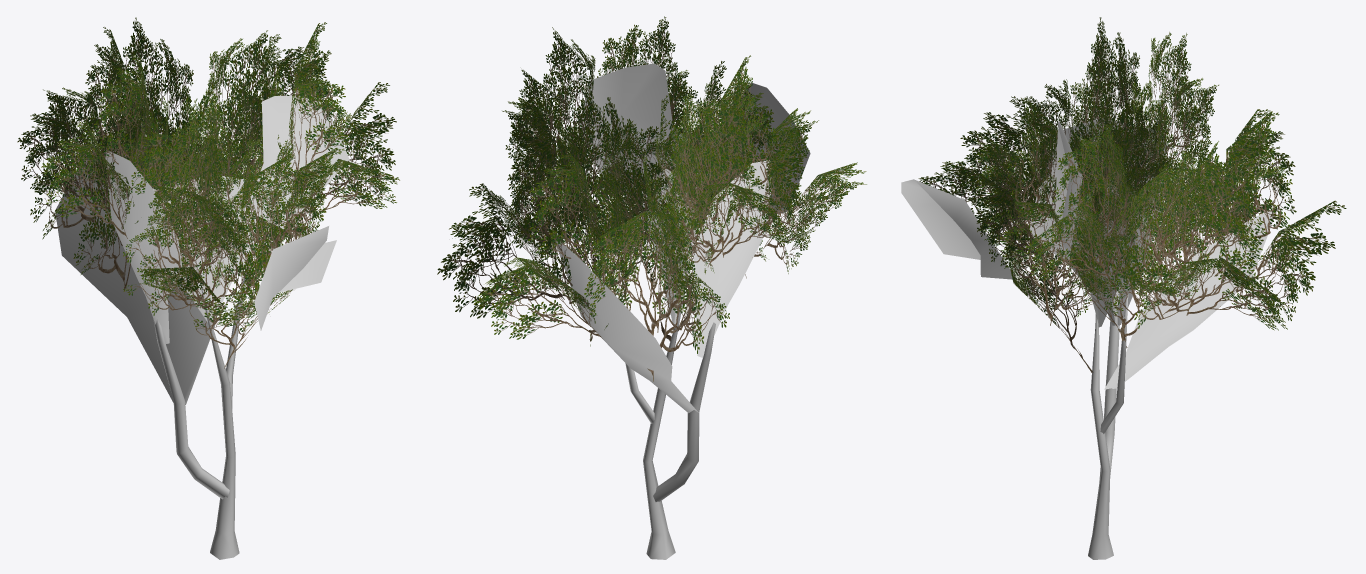
File: SM_Tree_Small_01a.fbx
3 views of the same model, side by side, from view 1: azimuth 30°, elevation 25°; view 2: azimuth 150°, elevation 25°; view 3: azimuth 270°, elevation 25° (orthographic). The views are drawn at different scales.
Parts seen in each view (by area): view 1: SM_Tree_Small_01a_LOD0; view 2: SM_Tree_Small_01a_LOD0; view 3: SM_Tree_Small_01a_LOD0.
Boxes of the visible parts, box(x1,y1,x2,y2) form: SM_Tree_Small_01a_LOD0: box(17, 17, 399, 559); SM_Tree_Small_01a_LOD0: box(437, 16, 866, 559); SM_Tree_Small_01a_LOD0: box(901, 17, 1346, 559).
Bounding box in the file's own units: 1263 × 1590 × 1938.
